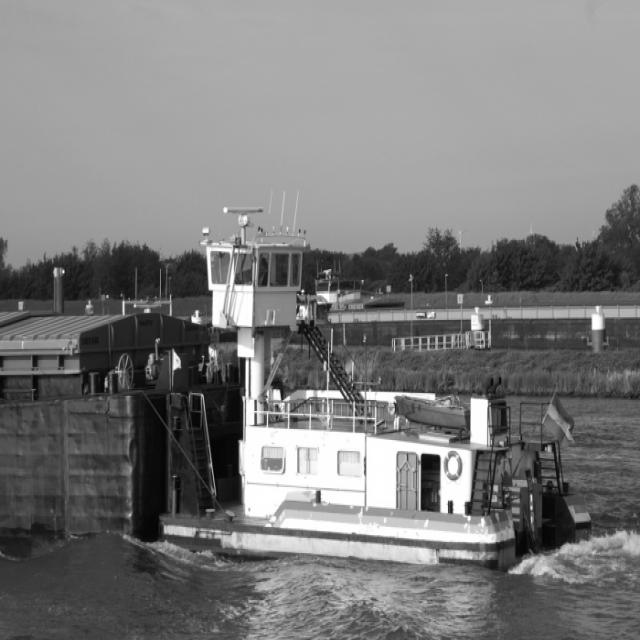tugboat: (135, 187, 598, 579)
